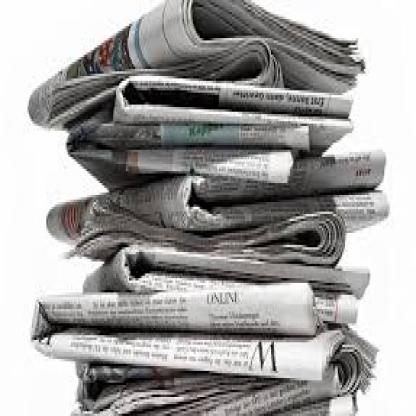Paper: (4, 9, 415, 416)
